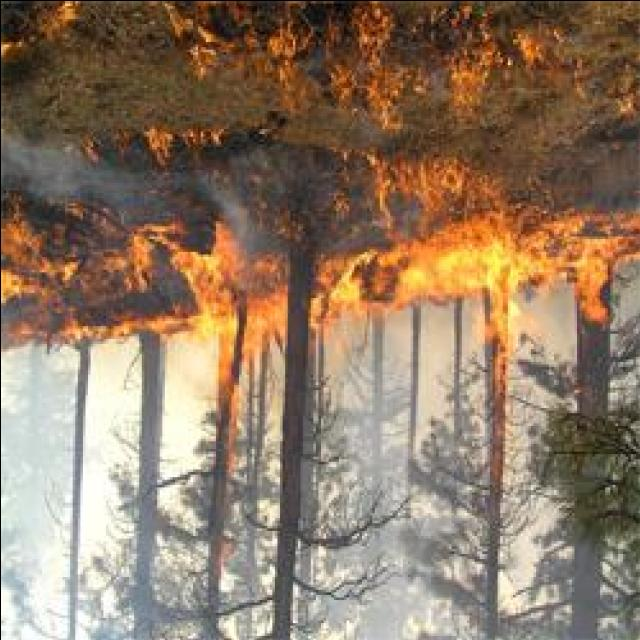fire: (407, 238, 502, 294), (190, 300, 230, 338)
smoke: (0, 337, 79, 628), (0, 136, 125, 196)
